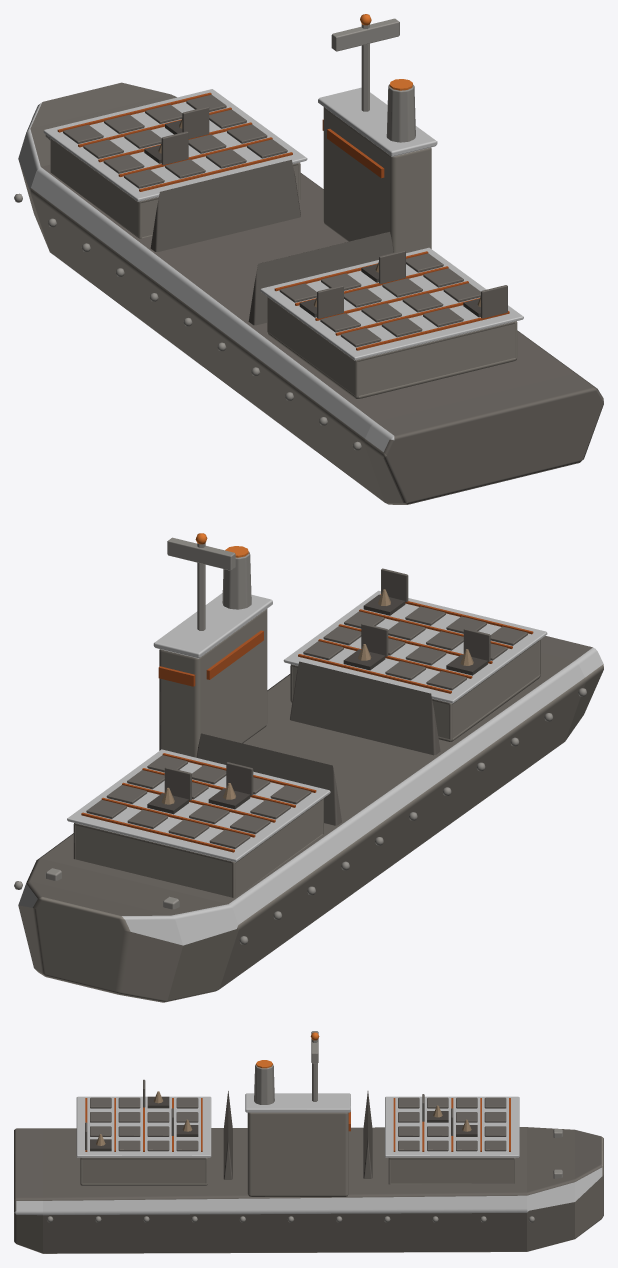
The model's file is crucible_missile_ship.glb.
3 renders of one model, top to bottom at view 1: azimuth 30°, elevation 25°; view 2: azimuth 150°, elevation 25°; view 3: azimuth 270°, elevation 25°, orthographic. The views are drawn at different scales.
Parts seen in each view (by area): view 1: Body; view 2: Body; view 3: Body.
Boxes of the visible parts, x1,y1,x2,y2 form: Body: (14, 14, 603, 504); Body: (14, 533, 603, 1002); Body: (14, 1031, 603, 1253).
Size of the model in its own units: 0.796 by 1.01 by 2.45.
